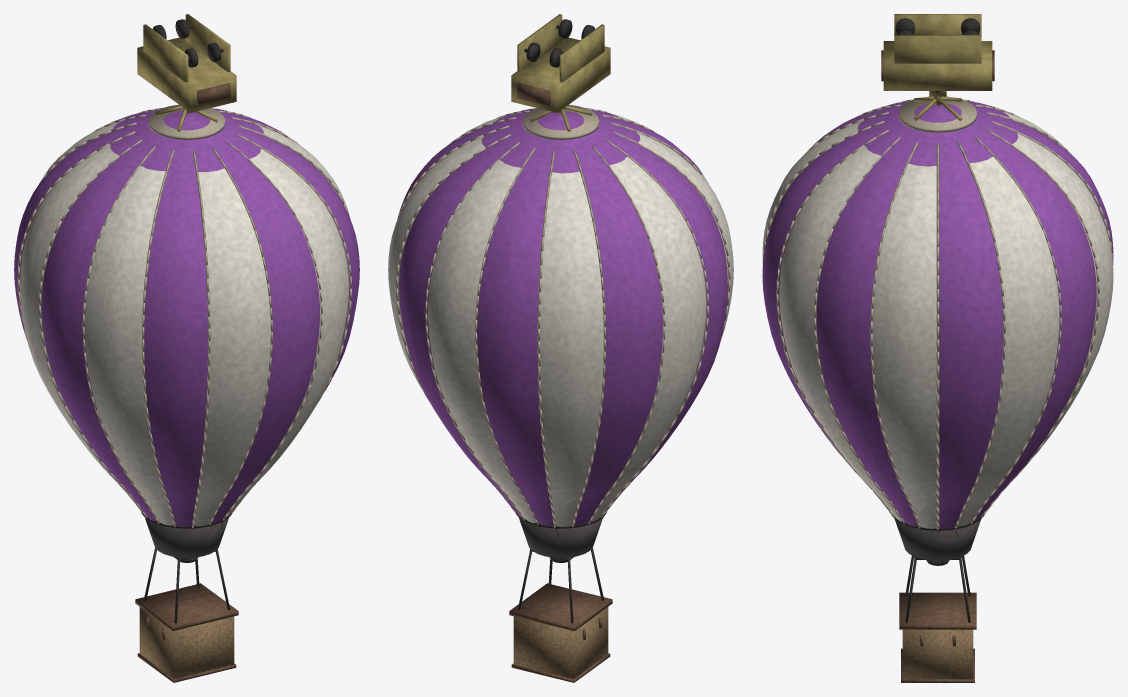
Rendered from BalloonRail_Purple.fbx.
The picture shows the model from 3 angles, left to right: view 1: azimuth 30°, elevation 25°; view 2: azimuth 150°, elevation 25°; view 3: azimuth 270°, elevation 25°; orthographic projection. The views are drawn at different scales.
Parts seen in each view (by area): view 1: Swing_S_Envelope_Purple, Swing_S_EnvelopeStripe_Purple, Swing_S_Rope, Static_S_Bogie, Swing_S_Wicker, Swing_S_Leather, Swing_S_SkirtDark, Swing_S_SteelWorn, Static_S_SteelWorn, Static_S_Leather; view 2: Swing_S_Envelope_Purple, Swing_S_EnvelopeStripe_Purple, Swing_S_Rope, Static_S_Bogie, Swing_S_Wicker, Swing_S_Leather, Swing_S_SkirtDark, Swing_S_SteelWorn, Static_S_SteelWorn, Static_S_Leather; view 3: Swing_S_Envelope_Purple, Swing_S_EnvelopeStripe_Purple, Swing_S_Rope, Static_S_Bogie, Swing_S_Wicker, Swing_S_Leather, Swing_S_SkirtDark, Swing_S_SteelWorn, Static_S_SteelWorn.
Part boxes in pixels (x1,y1,x2,y2): Swing_S_Envelope_Purple: (14,108,359,527); Swing_S_EnvelopeStripe_Purple: (20,111,350,526); Swing_S_Rope: (17,104,351,527); Static_S_Bogie: (137,14,236,112); Swing_S_Wicker: (139,607,234,678); Swing_S_Leather: (135,583,238,682); Swing_S_SkirtDark: (145,518,228,557); Swing_S_SteelWorn: (141,512,231,623); Static_S_SteelWorn: (153,19,223,67); Static_S_Leather: (197,83,230,105); Swing_S_Envelope_Purple: (397,108,727,526); Swing_S_EnvelopeStripe_Purple: (388,113,733,527); Swing_S_Rope: (396,104,730,527); Static_S_Bogie: (511,14,610,112); Swing_S_Wicker: (513,607,608,678); Swing_S_Leather: (509,583,612,682); Swing_S_SkirtDark: (519,518,602,557); Swing_S_SteelWorn: (516,512,606,623); Static_S_SteelWorn: (524,19,594,67); Static_S_Leather: (517,83,550,105); Swing_S_Envelope_Purple: (762,101,1113,528); Swing_S_EnvelopeStripe_Purple: (762,103,1113,528); Swing_S_Rope: (763,96,1112,529); Static_S_Bogie: (883,14,992,96); Swing_S_Wicker: (902,629,973,679); Swing_S_Leather: (899,592,976,682); Swing_S_SkirtDark: (894,519,981,560); Swing_S_SteelWorn: (891,515,984,622); Static_S_SteelWorn: (895,18,980,92).
Bounding box in the file's own units: 6.45 × 13.03 × 6.45.
